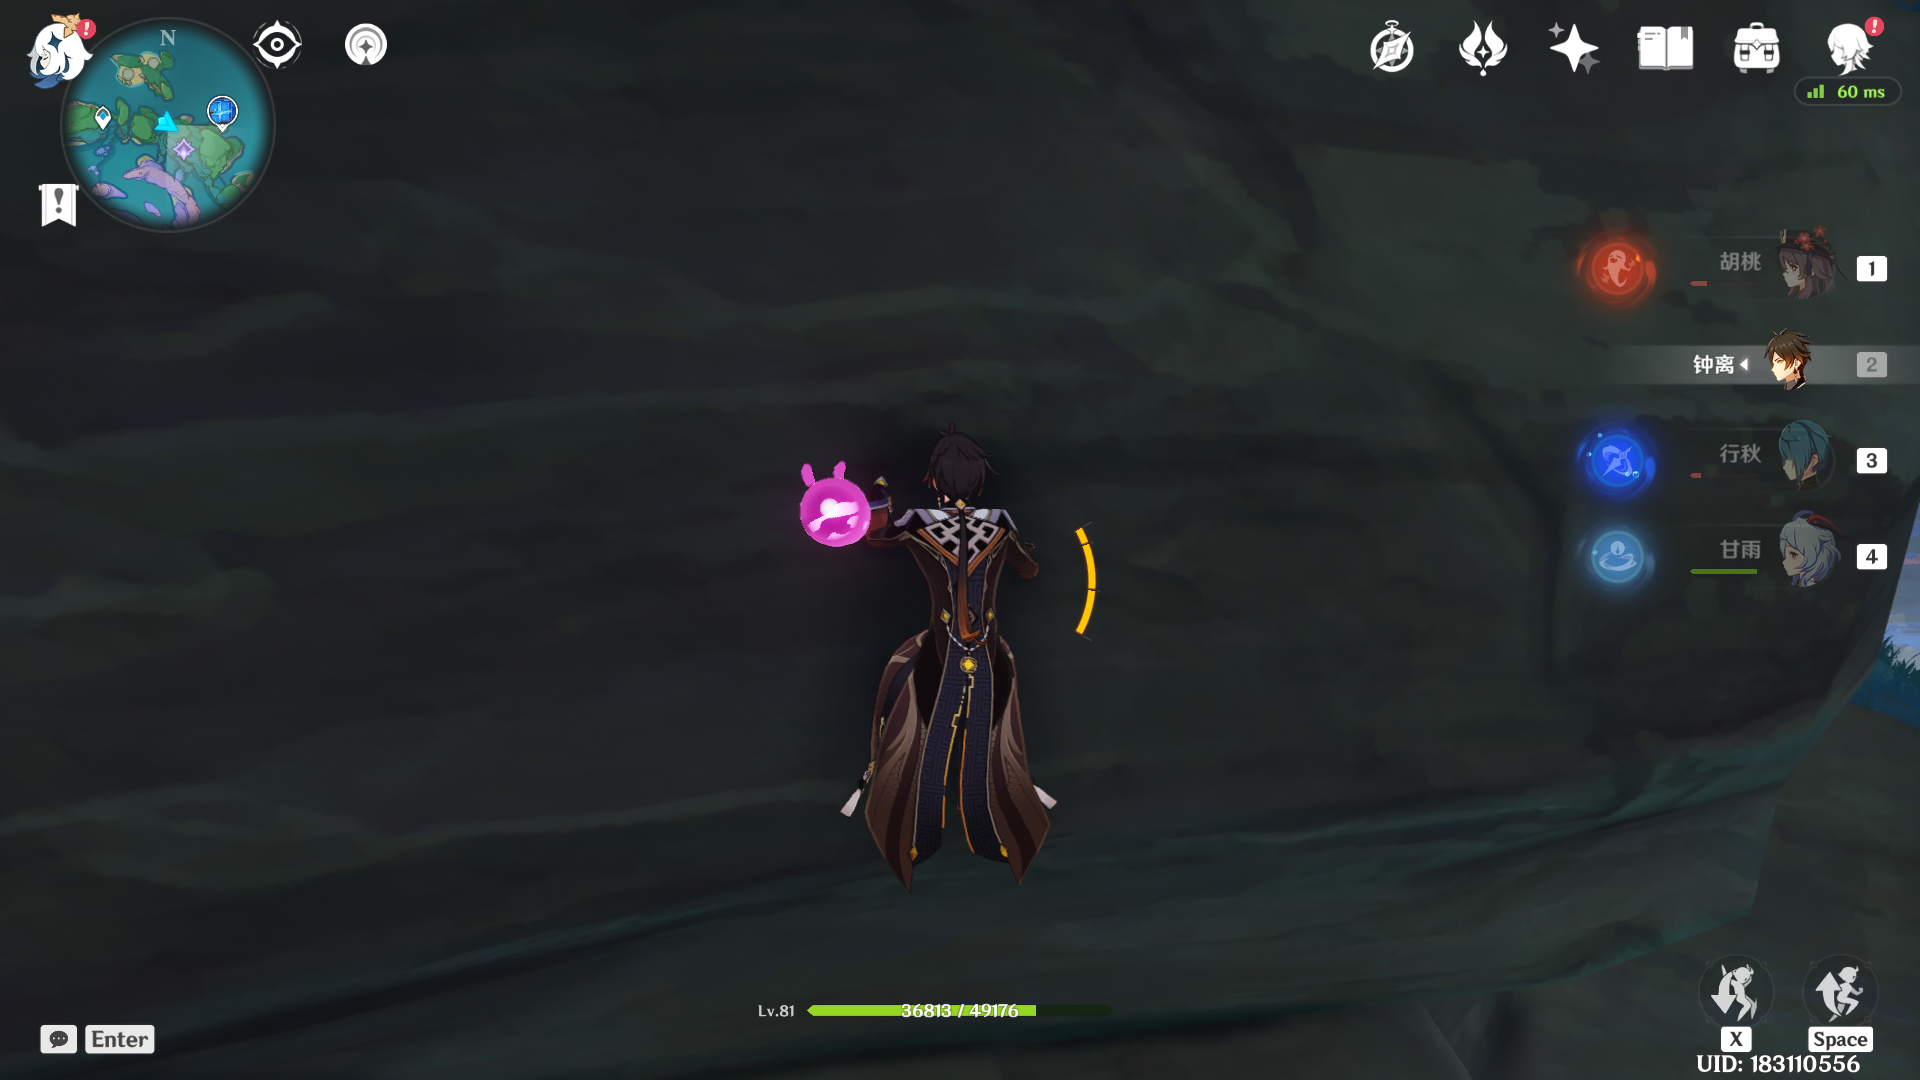character: (800, 406, 1147, 899)
